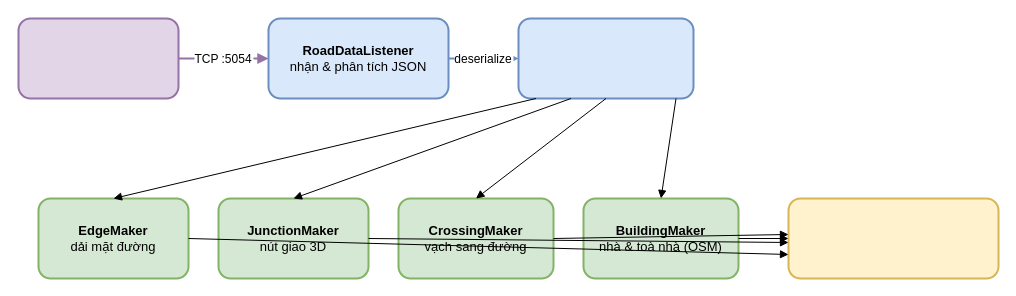
The diagram is 1016 pixels wide and 296 high, and some of its shapes have lost their labels. Here are the shapes that lost their labels. From the top down, the centre of each, then its label:
the point at 98,58: road_data.json (Máy chủ Python)
the point at 605,58: RoadDataSO ScriptableObject (lưu dữ liệu đường)
the point at 893,238: Cảnh ba chiều trong Unity (mesh đường, nút, vạch, nhà)
